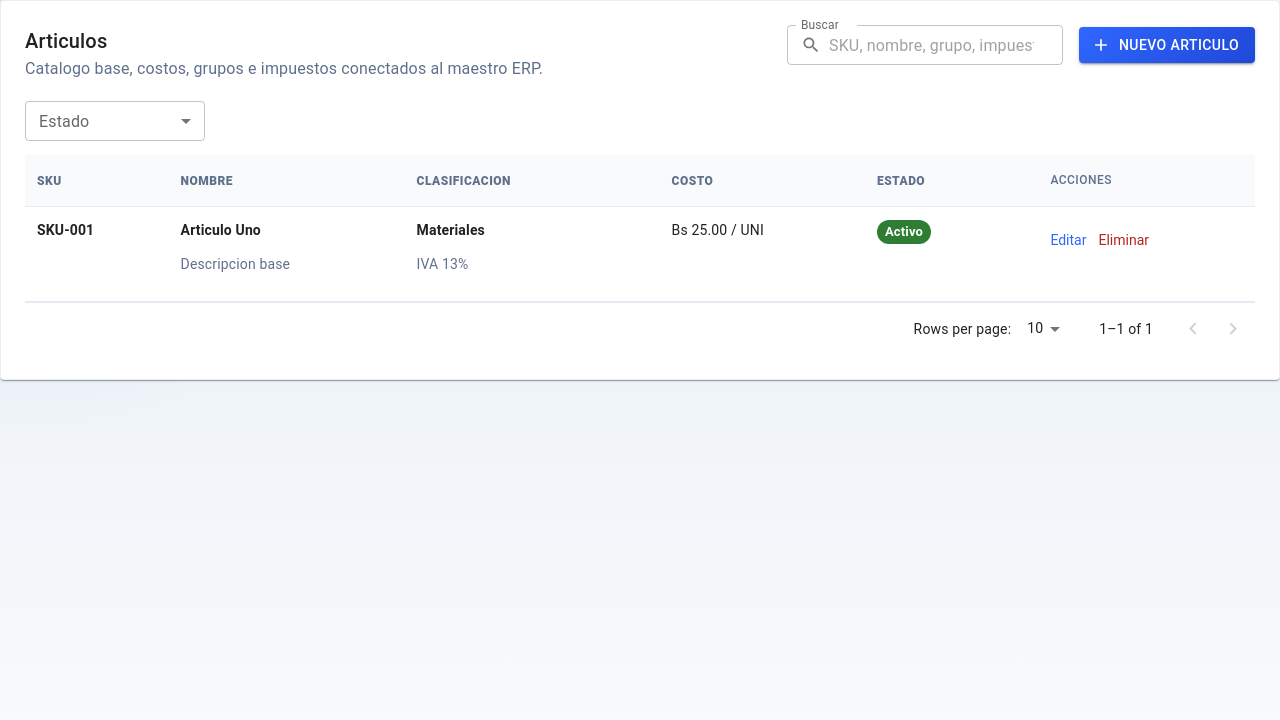
ArticulosScreen › bloquea el submit cuando el formulario tiene errores de validacion
Click the button "Nuevo articulo". click: (1167, 45)
box: top-left (1079, 27), bottom-right (1255, 63)
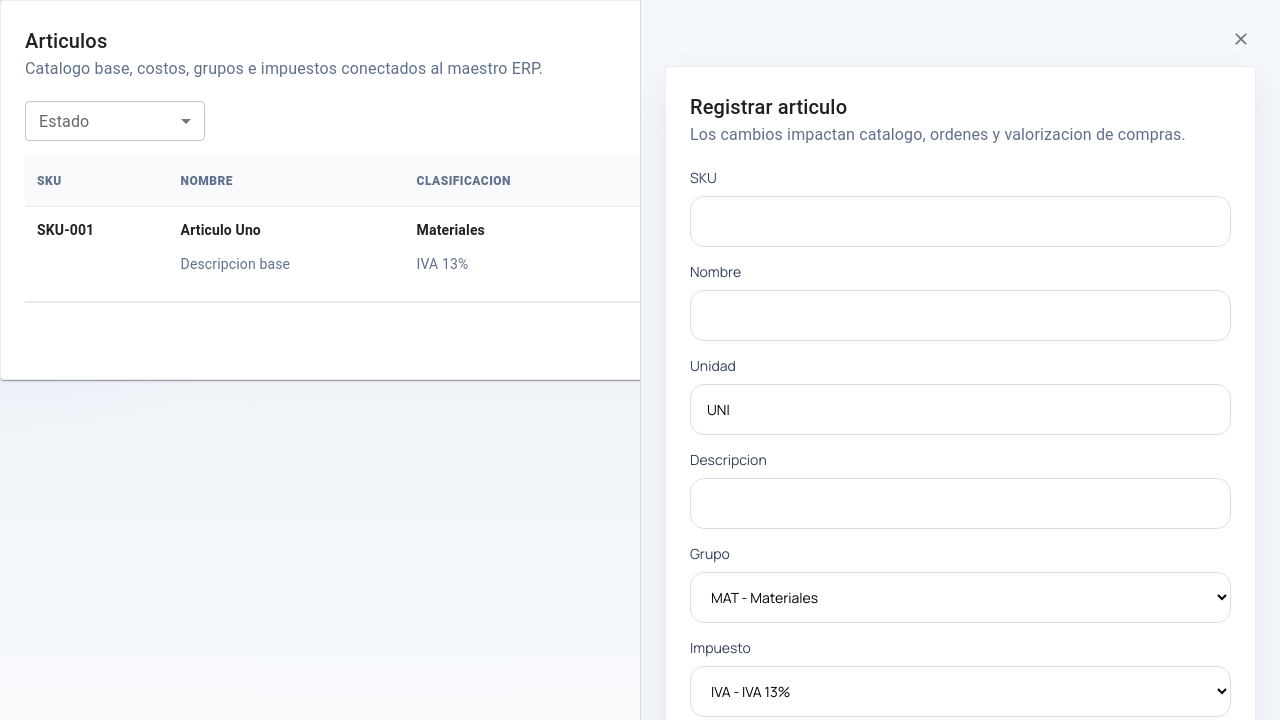
Type "S" into the field labelled "SKU". click: (960, 222)
box: top-left (690, 196), bottom-right (1231, 247)
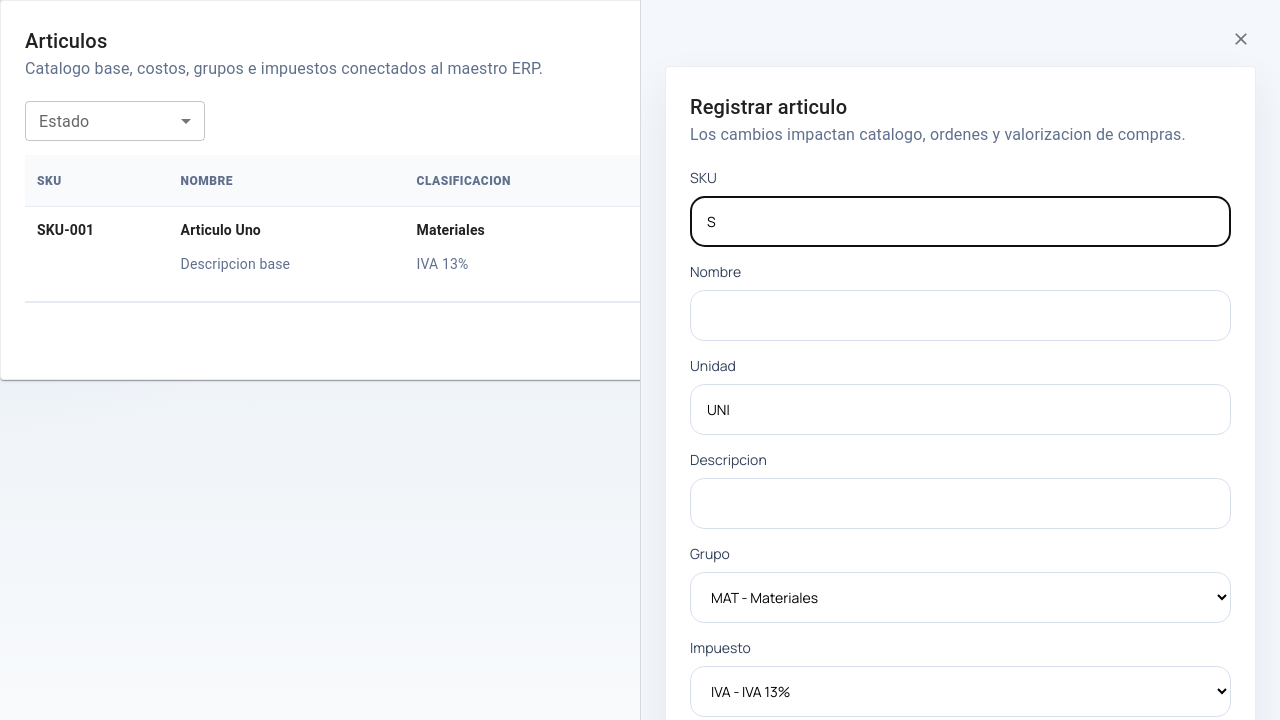
Type "AB" into the field labelled "Nombre". click: (960, 316)
box: top-left (690, 290), bottom-right (1231, 341)
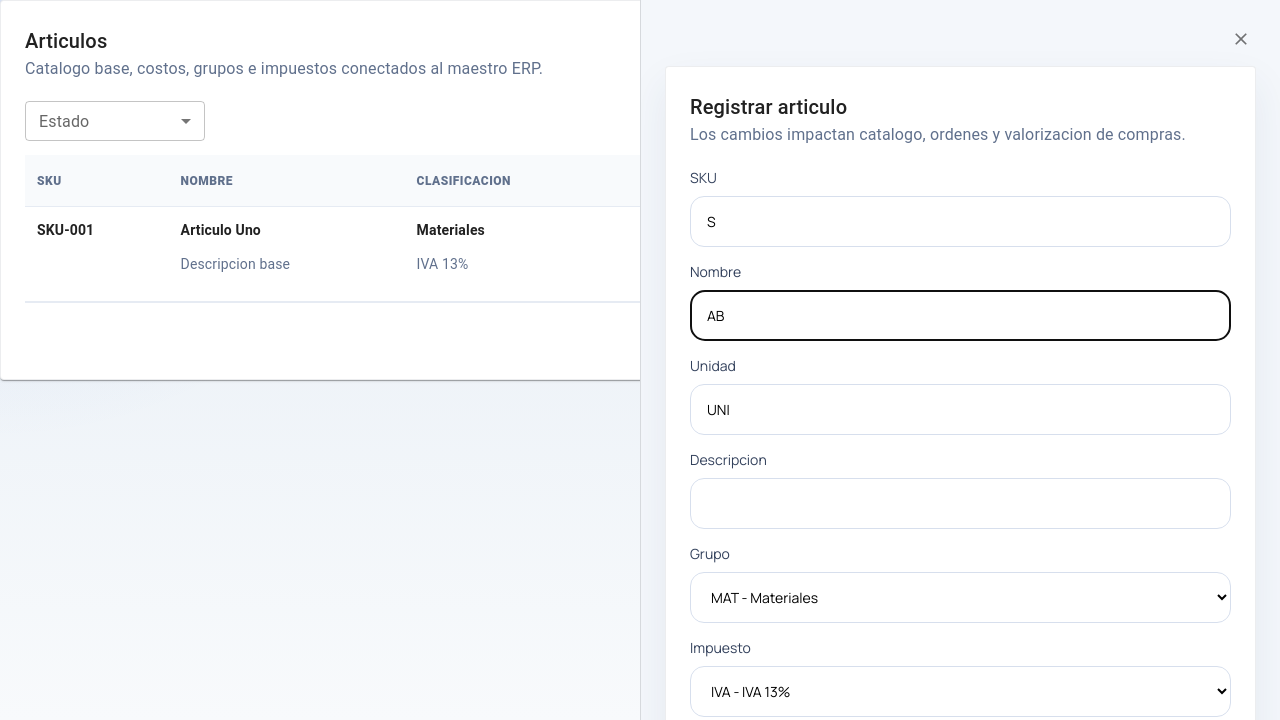
Replace the text in the field labelled "Unidad" with "1". click: (960, 410)
box: top-left (690, 384), bottom-right (1231, 435)
(page scrolled)
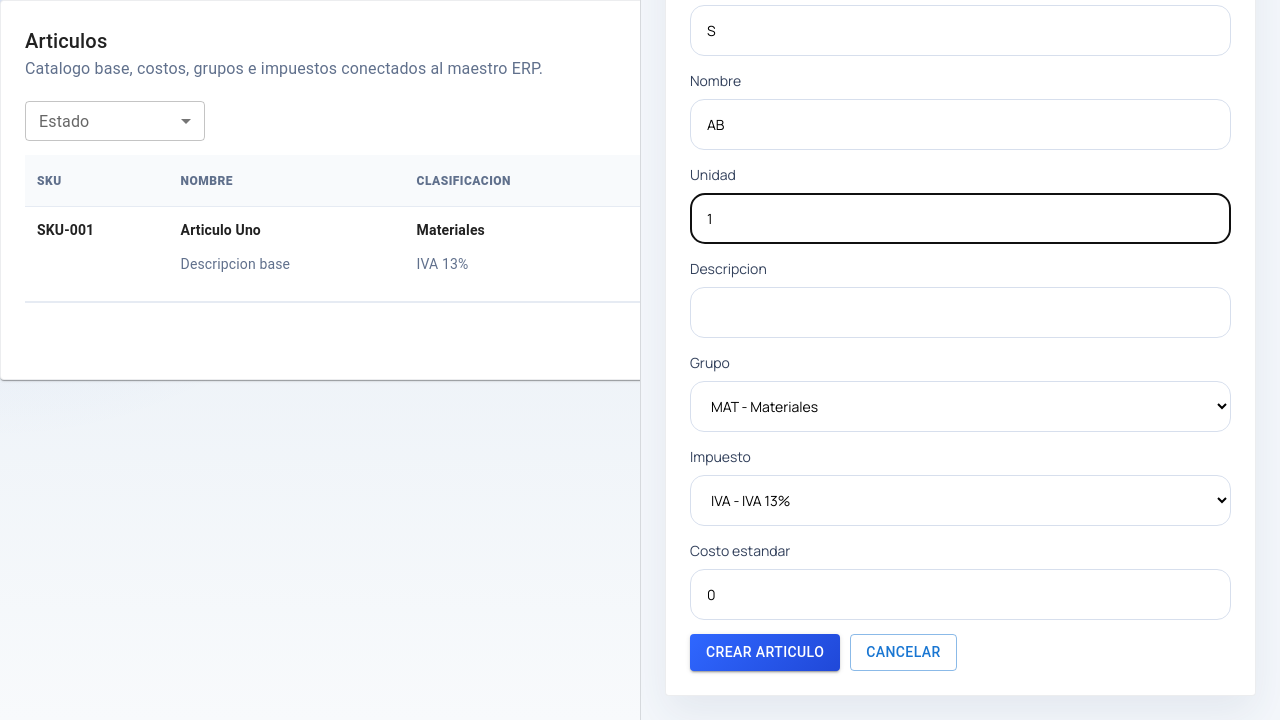
Replace the text in the number field labelled "Costo estandar" with "-5". click: (960, 594)
box: top-left (690, 569), bottom-right (1231, 620)
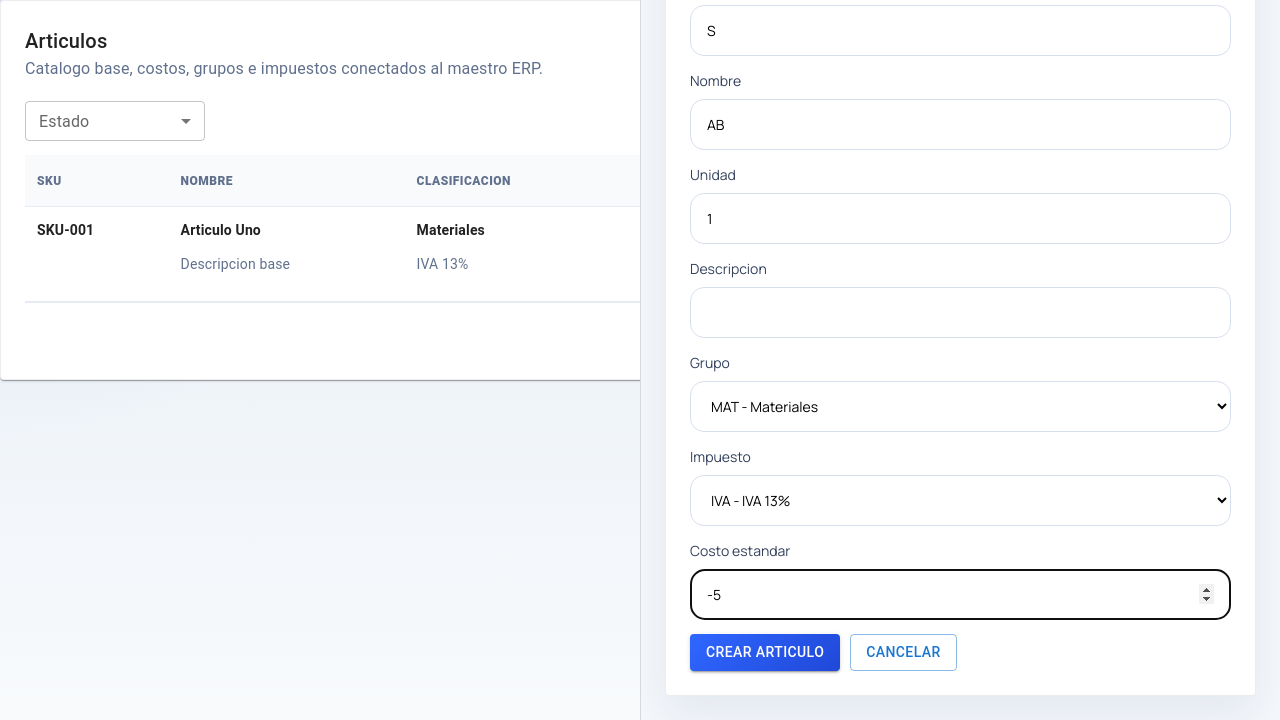
Click the button "Crear articulo". click: (765, 652)
box: top-left (690, 634), bottom-right (840, 670)
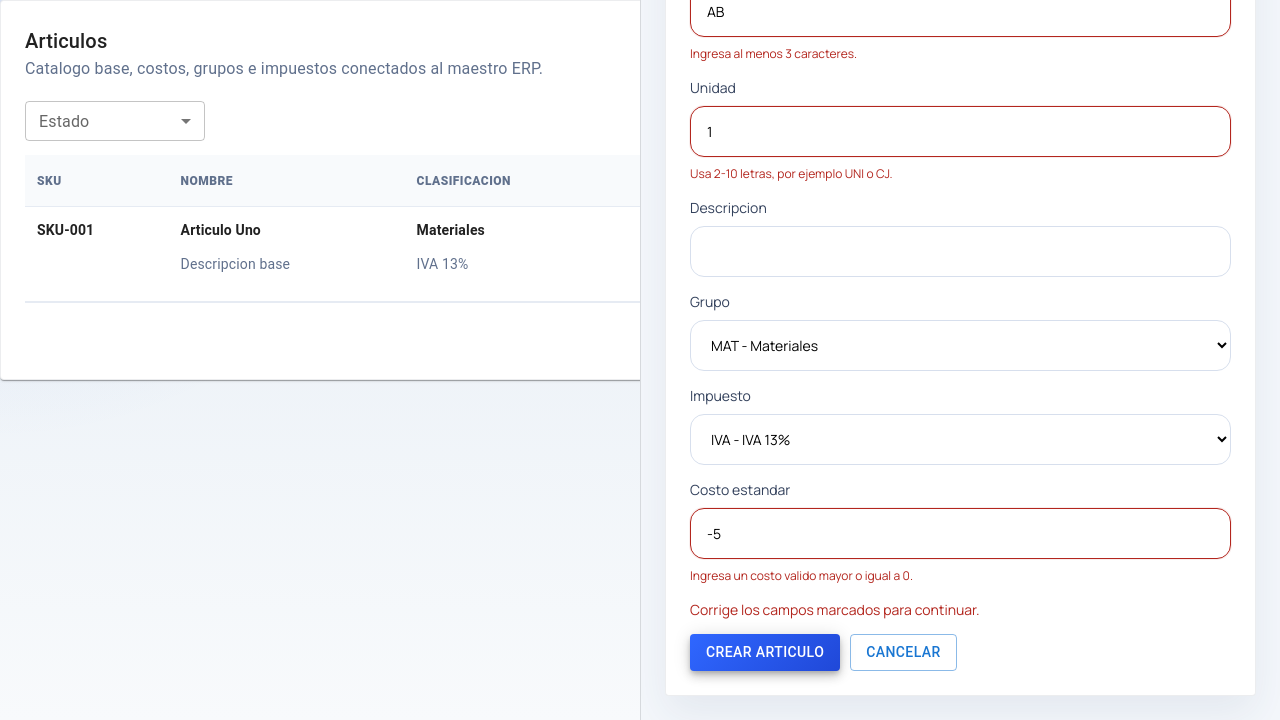
Expected: the text "Ingresa al menos 3 caracteres." is shown, top-left (690, 45), bottom-right (857, 62)
Expected: the text "Usa 2-10 letras, por ejemplo UNI o CJ." is shown, top-left (690, 165), bottom-right (893, 182)
Expected: the text "Ingresa un costo valido mayor o igual a 0." is shown, top-left (690, 567), bottom-right (913, 584)
